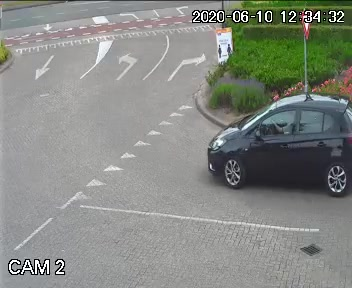car: (207, 85, 352, 199)
